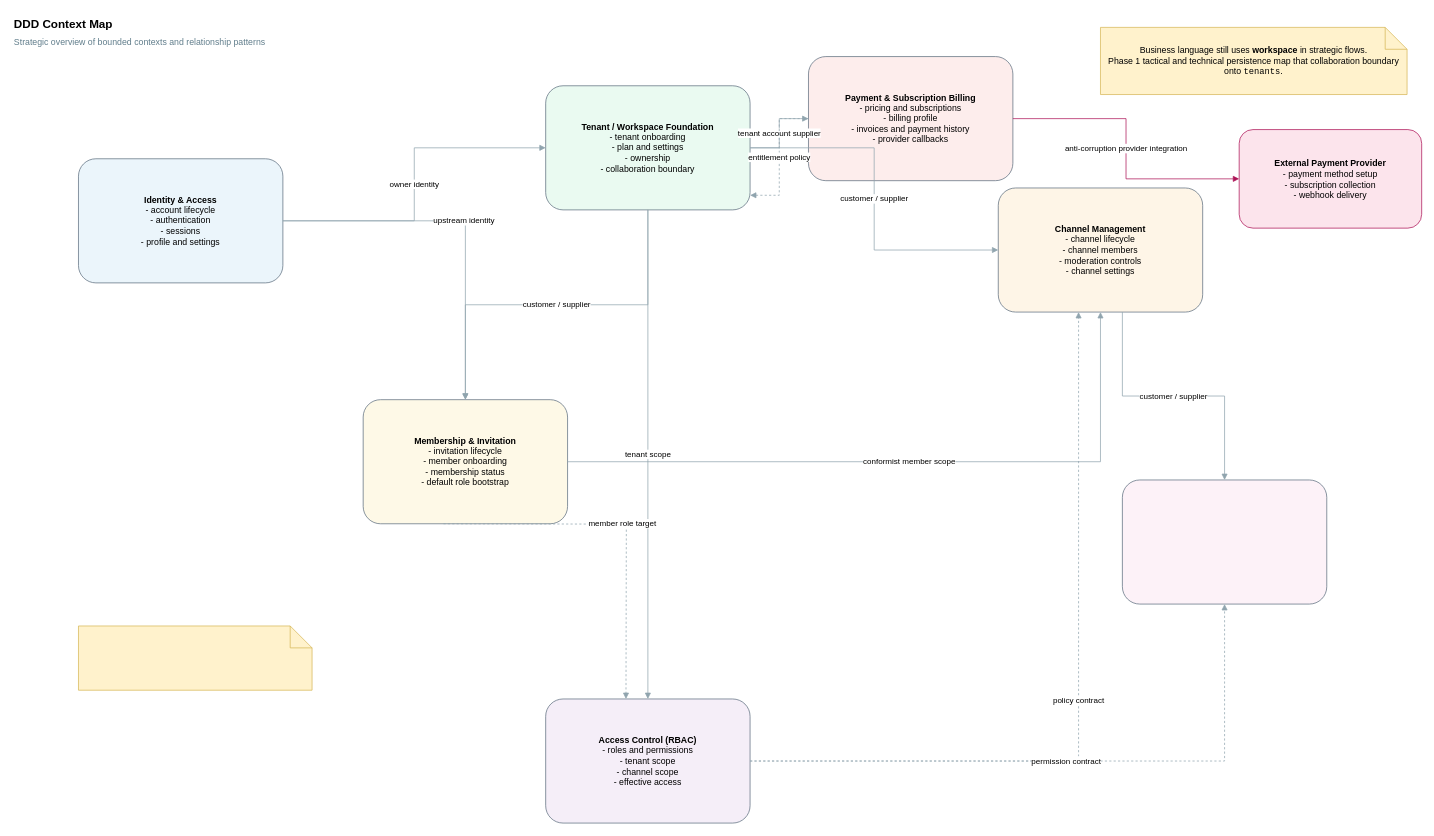
Some shapes in this 1434 by 836 pixel diagram are drawn without their labels. Each missing label, with the box of its shape:
Legend: solid = operational dependency dashed = policy / contract dependency: (78, 625, 312, 690)
Messaging - message lifecycle - read tracking - pins - attachments: (1122, 479, 1327, 604)
